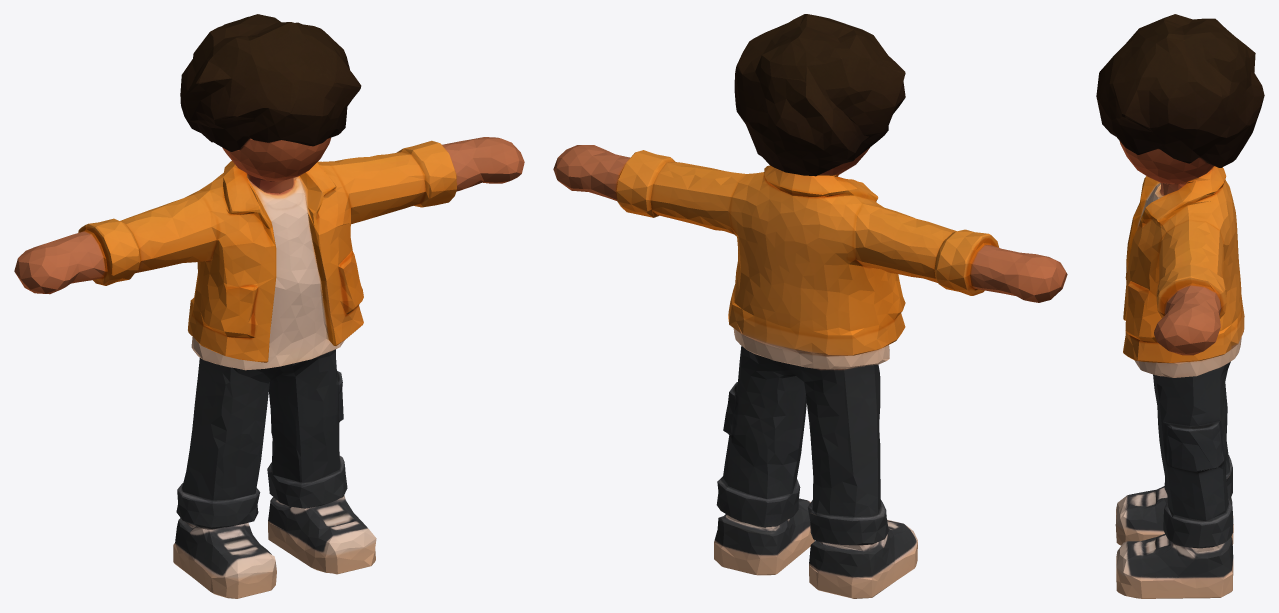
The model's file is male-student-2-textured.glb.
3 views of the same model, side by side, from view 1: azimuth 30°, elevation 25°; view 2: azimuth 150°, elevation 25°; view 3: azimuth 270°, elevation 25° (orthographic).
Visible parts, largest first — view 1: geometry_0; view 2: geometry_0; view 3: geometry_0.
Part boxes in pixels (bbox=[...]): geometry_0: bbox=[14, 14, 524, 598]; geometry_0: bbox=[553, 14, 1067, 598]; geometry_0: bbox=[1096, 14, 1264, 598].
Bounding box in the file's own units: 0.9661 × 1 × 0.286.
Materials: 1 (1 with a texture image).
